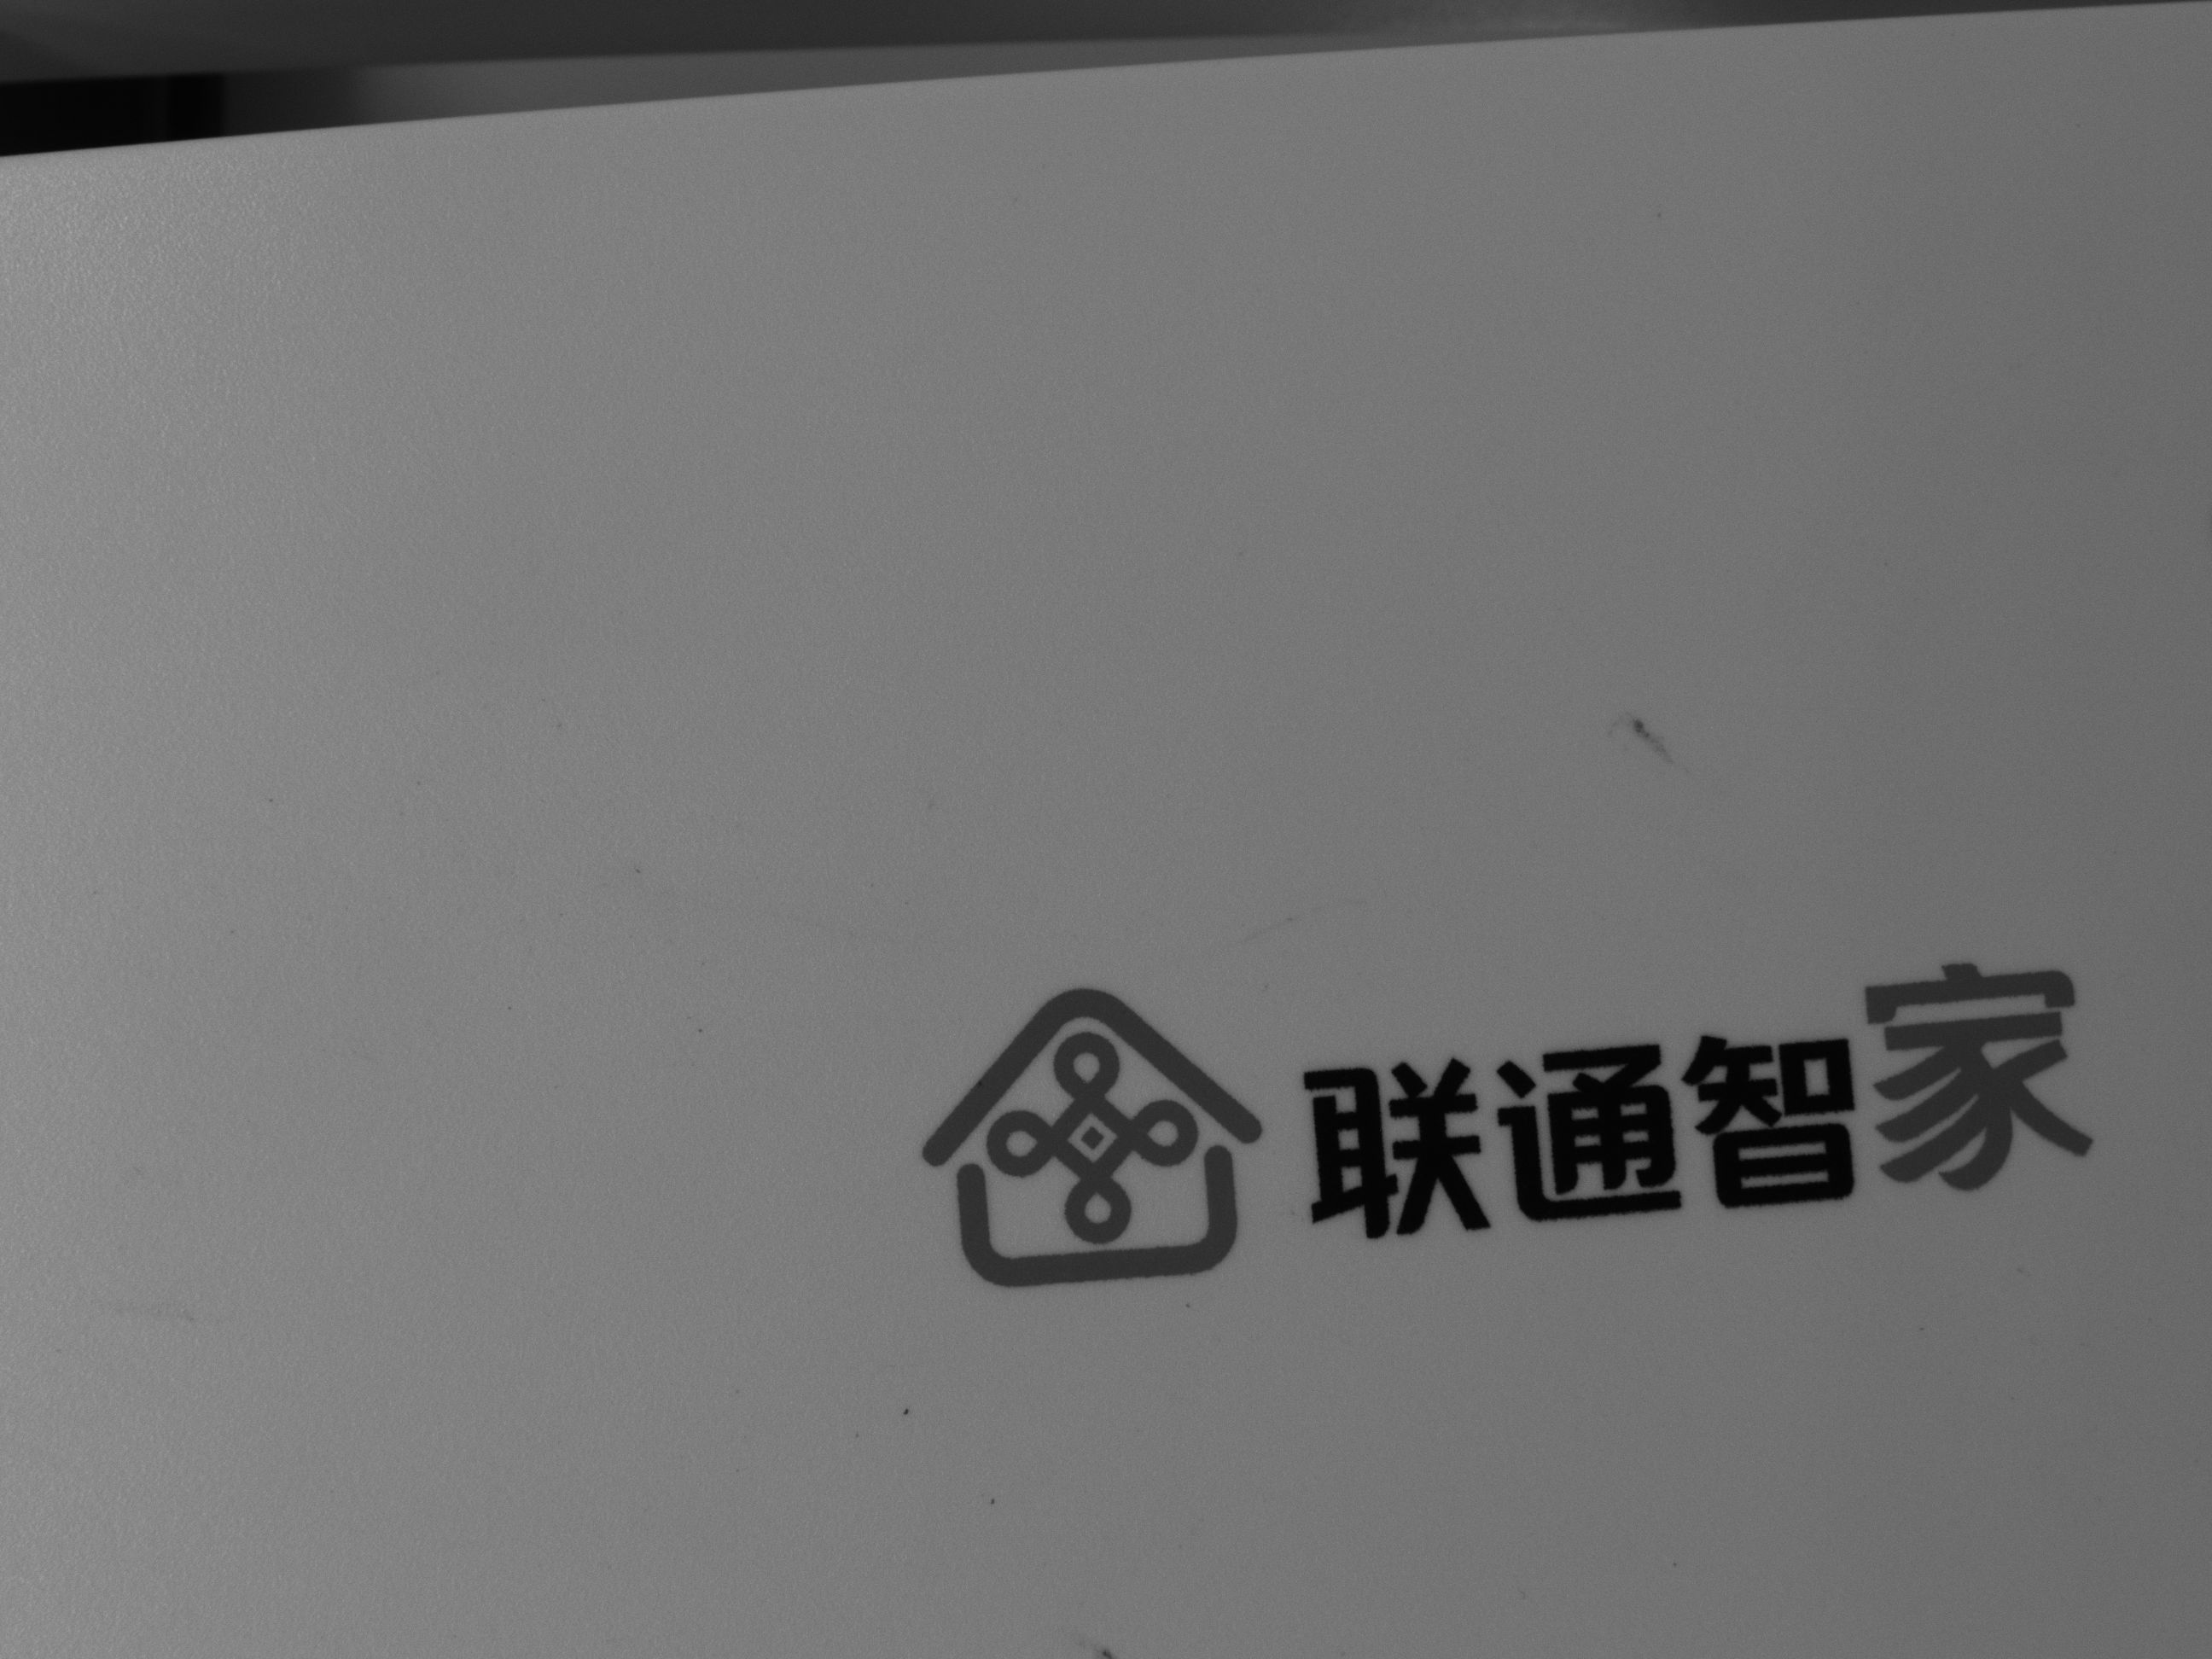BY_F6610Unicome: (834, 927, 2109, 1291)
